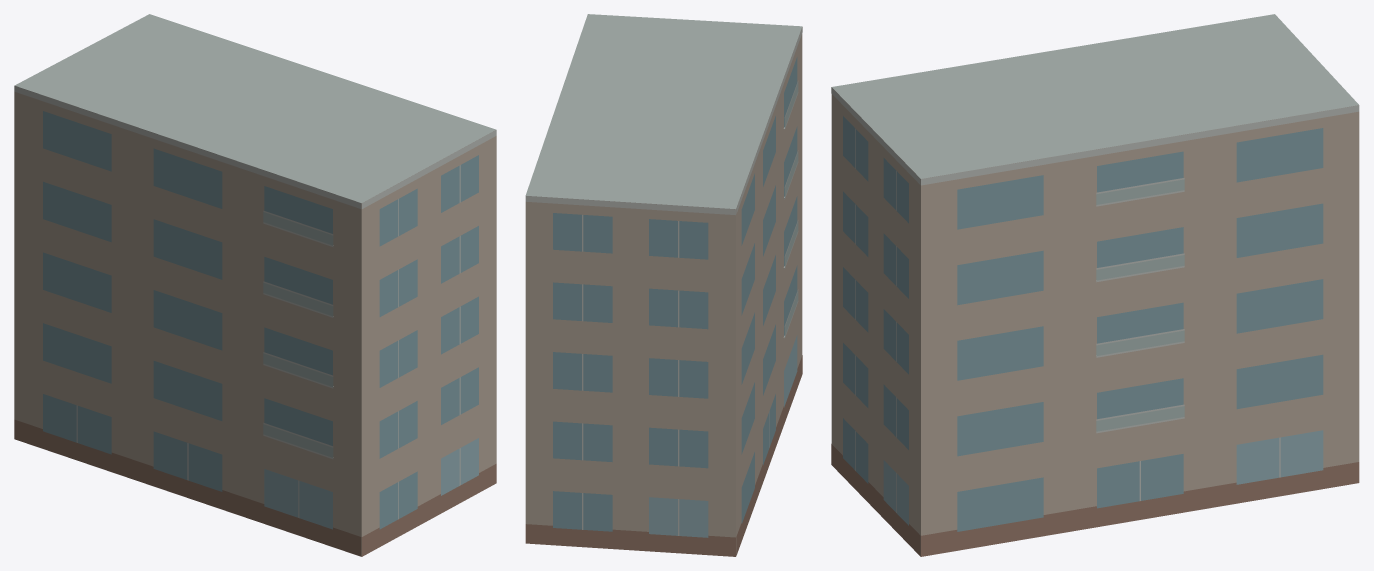
Rendered from survey-upis-32894568.glb.
The picture shows the model from 3 angles, left to right: view 1: azimuth 30°, elevation 25°; view 2: azimuth 150°, elevation 25°; view 3: azimuth 270°, elevation 25°; orthographic projection. The views are drawn at different scales.
Parts seen in each view (by area): view 1: survey-upis-32894568.tmp; view 2: survey-upis-32894568.tmp; view 3: survey-upis-32894568.tmp.
Part boxes in pixels (x1,y1,x2,y2): survey-upis-32894568.tmp: (14, 14, 496, 556); survey-upis-32894568.tmp: (525, 14, 802, 556); survey-upis-32894568.tmp: (831, 14, 1359, 556).
Size of the model in its own units: 13.21 by 14.1 by 17.86.
